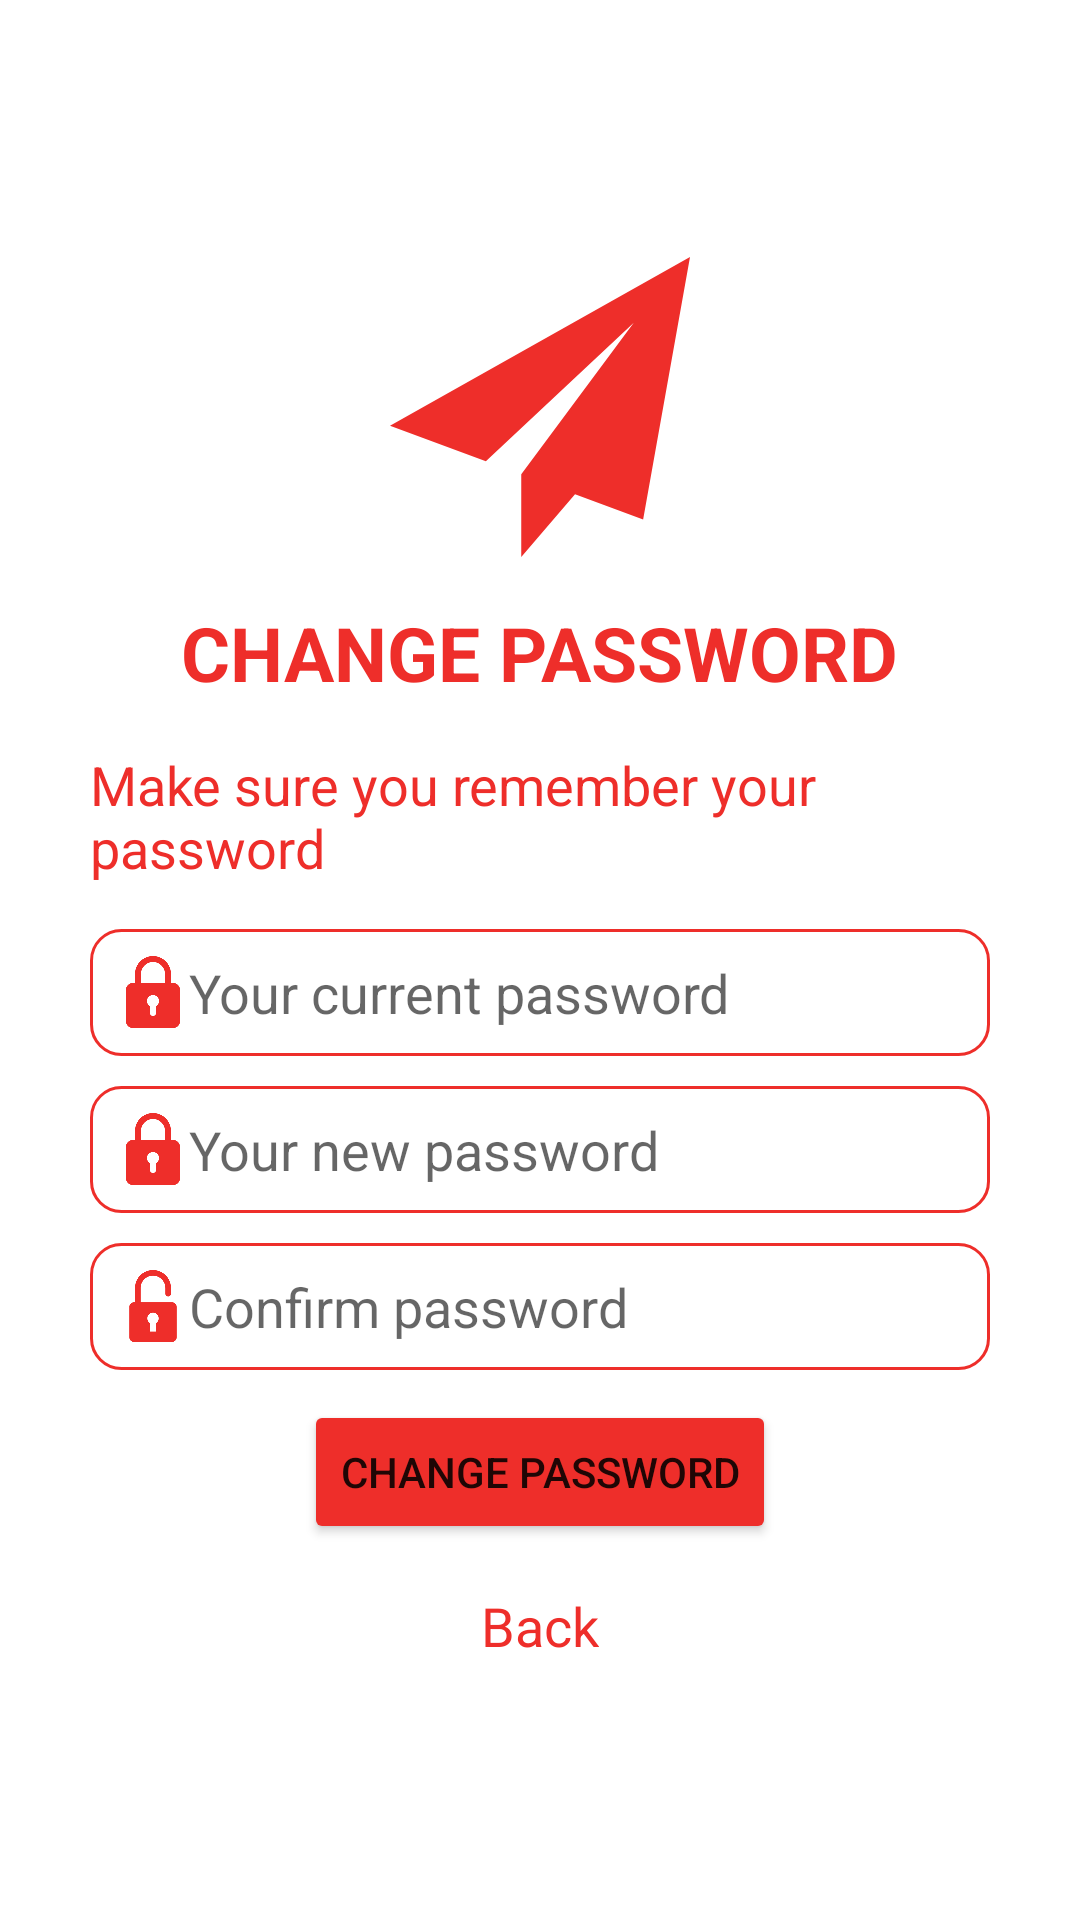

Named icons in this screenshot (1080×1920) and their centers, (x,y):
send: (540,407)
